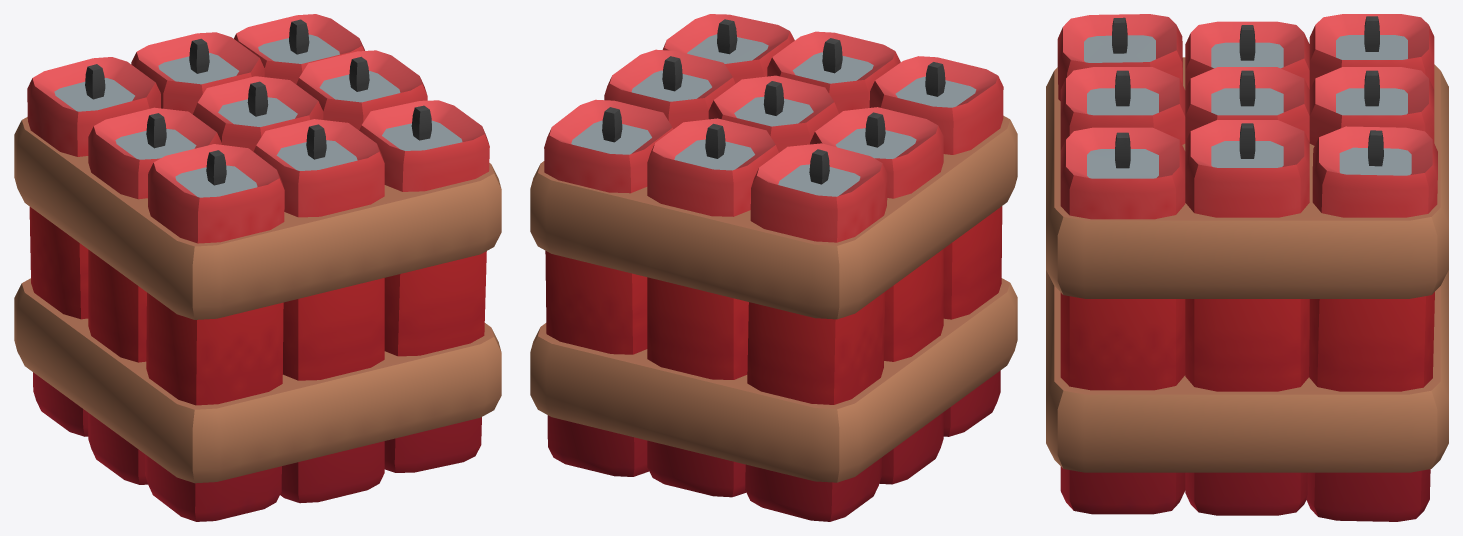
Rendered from dynamite.glb.
3 views of the same model, side by side, from view 1: azimuth 30°, elevation 25°; view 2: azimuth 150°, elevation 25°; view 3: azimuth 270°, elevation 25° (orthographic). The views are drawn at different scales.
Parts seen in each view (by area): view 1: dynamite; view 2: dynamite; view 3: dynamite.
Part boxes in pixels (x1=…): dynamite: x1=14, y1=14, x2=501, y2=521; dynamite: x1=530, y1=14, x2=1017, y2=521; dynamite: x1=1046, y1=14, x2=1448, y2=521.
Bounding box in the file's own units: 2.1 × 2.15 × 2.1.
Materials: 1 (1 with a texture image).
